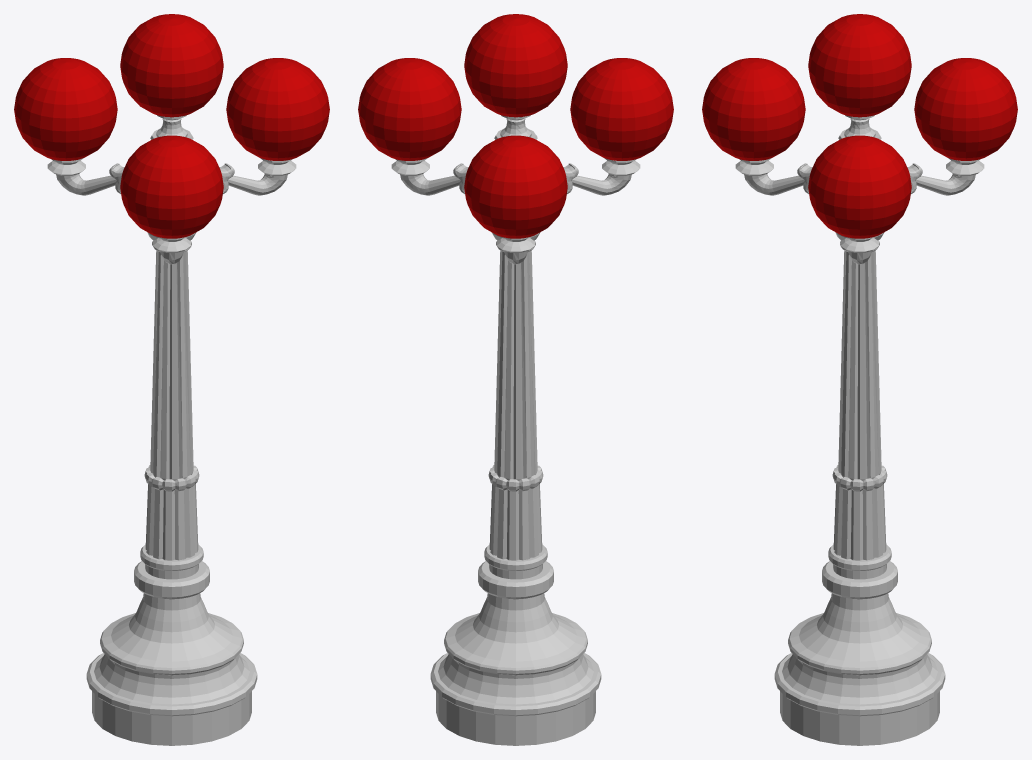
Rendered from lamp.obj.
3 renders of one model, left to right at view 1: azimuth 30°, elevation 25°; view 2: azimuth 150°, elevation 25°; view 3: azimuth 270°, elevation 25°, orthographic.
Parts seen in each view (by area): view 1: post, globes, arms; view 2: post, globes, arms; view 3: post, globes, arms.
Part boxes in pixels (x1,y1,x2,y2): post: (86, 115, 257, 745); globes: (14, 14, 329, 238); arms: (47, 158, 296, 264); post: (430, 115, 601, 745); globes: (358, 14, 673, 238); arms: (391, 158, 640, 264); post: (774, 115, 945, 745); globes: (702, 14, 1017, 238); arms: (735, 158, 984, 264).
Size of the model in its own units: 4.39 by 11.69 by 4.83.
